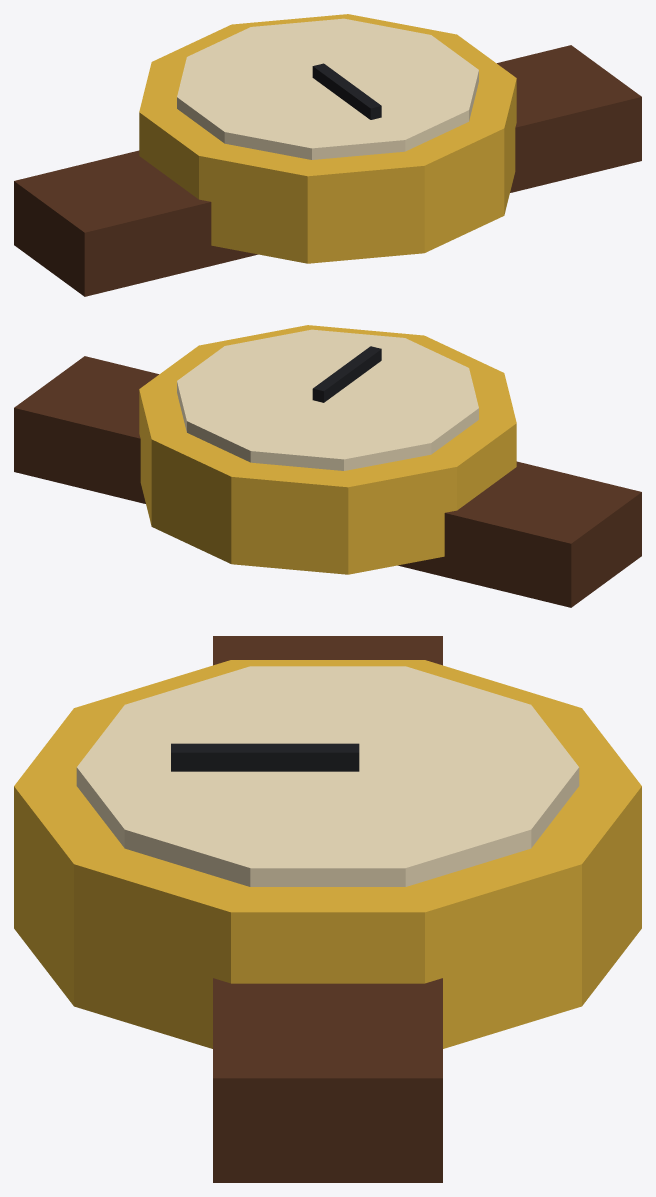
Rendered from watch.fbx.
The picture shows the model from 3 angles, top to bottom: view 1: azimuth 30°, elevation 25°; view 2: azimuth 150°, elevation 25°; view 3: azimuth 270°, elevation 25°; orthographic projection. The views are drawn at different scales.
Parts seen in each view (by area): view 1: watch; view 2: watch; view 3: watch.
Part boxes in pixels (bbox=[...]): watch: bbox=[14, 14, 641, 296]; watch: bbox=[14, 325, 641, 607]; watch: bbox=[14, 636, 641, 1182].
Bounding box in the file's own units: 0.4 × 0.09 × 0.24.
